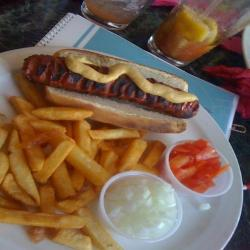fries: (6, 99, 104, 238)
hotdog: (20, 34, 203, 139)
